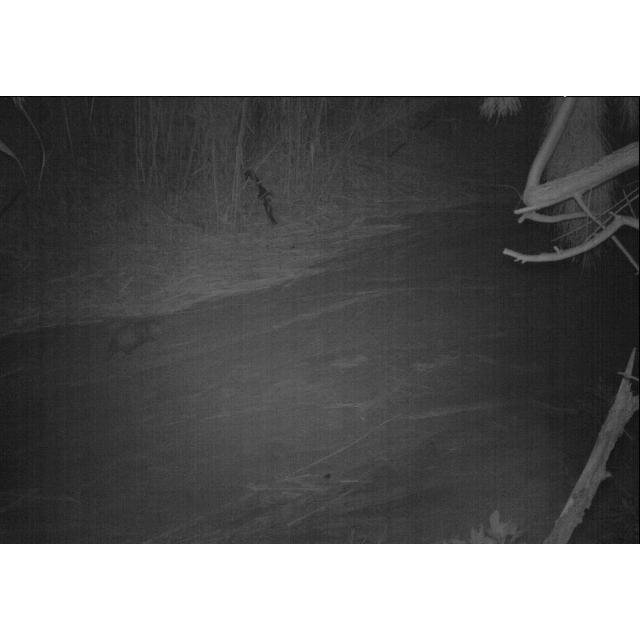animals: (106, 316, 162, 354)
